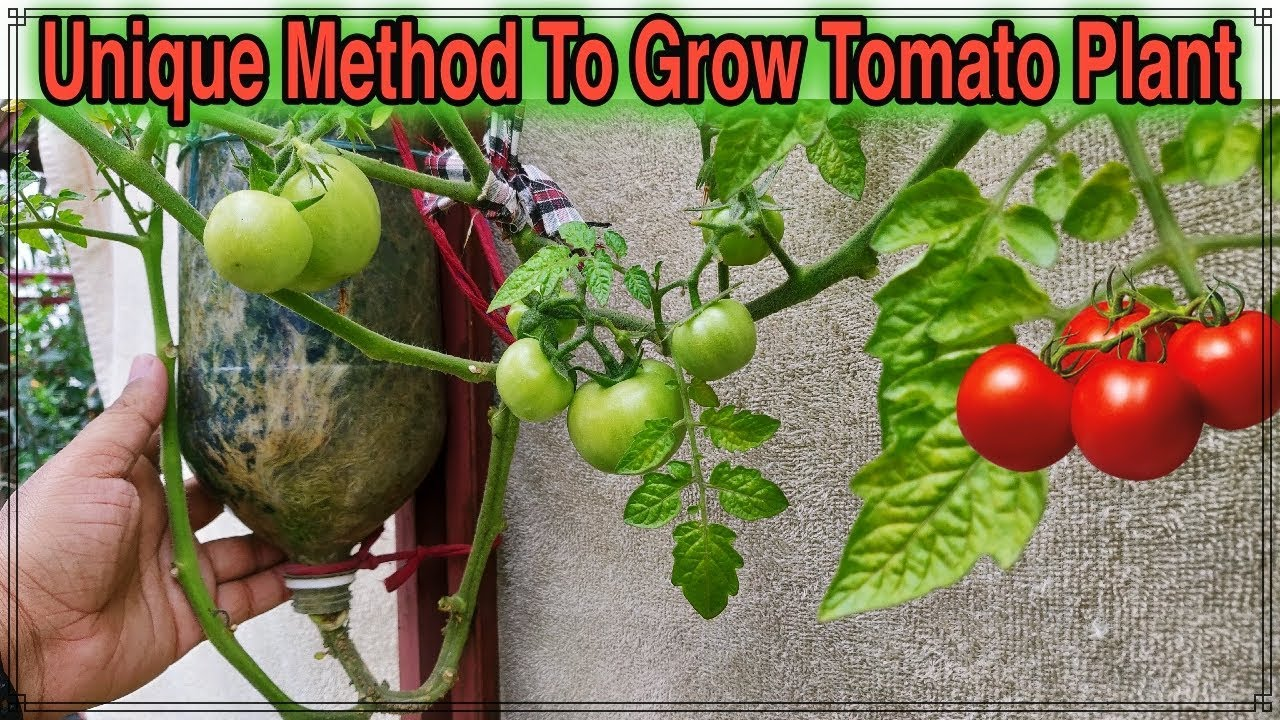tomato: (1070, 355, 1204, 481), (957, 340, 1077, 472), (1165, 309, 1280, 436), (568, 359, 690, 476), (282, 153, 381, 292), (202, 189, 312, 295), (665, 298, 757, 378), (495, 337, 579, 420)
